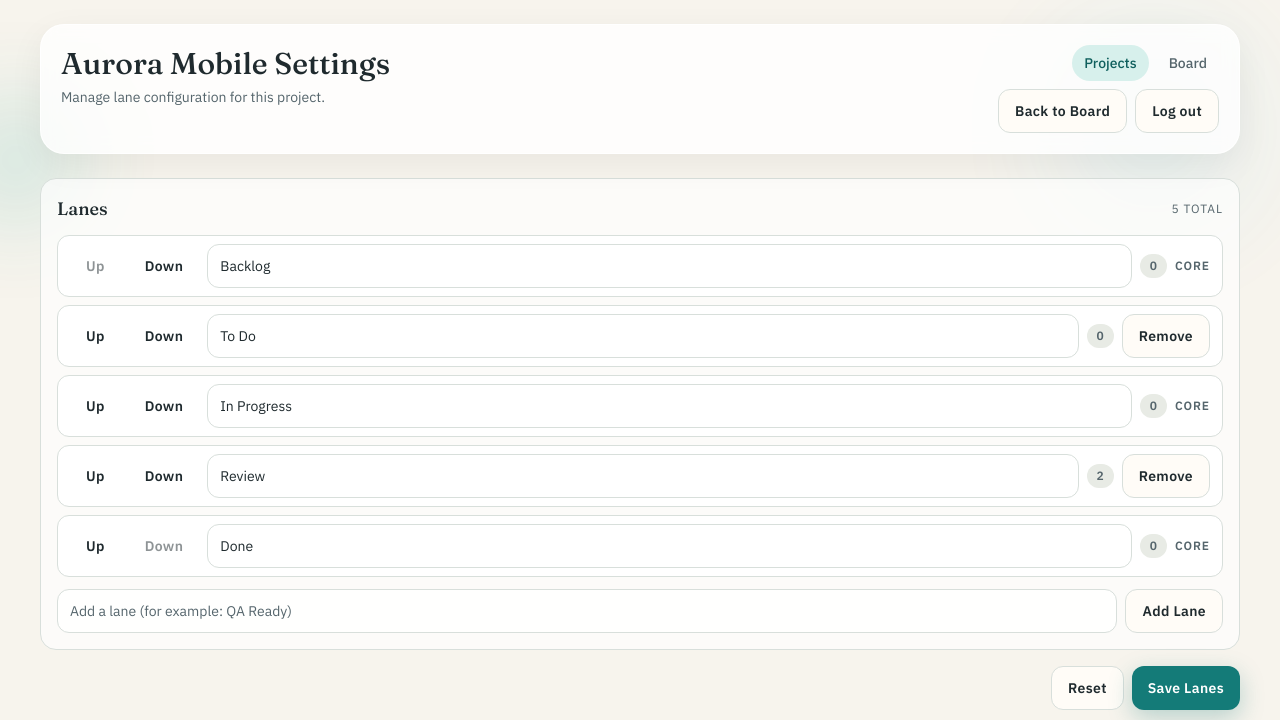
Test case: Kanban UI with Convex auth and data hooks › requires removed-lane mapping when saving lane settings
This screenshot has width=1280, height=720.
expect the field named "lane name review" is shown: met, box [207,454,1079,498]
What coordinates should you click on to do the following:
click the 2nd button "Remove"
I would click on:
 (1166, 476)
Its box is [1122,454,1210,498].
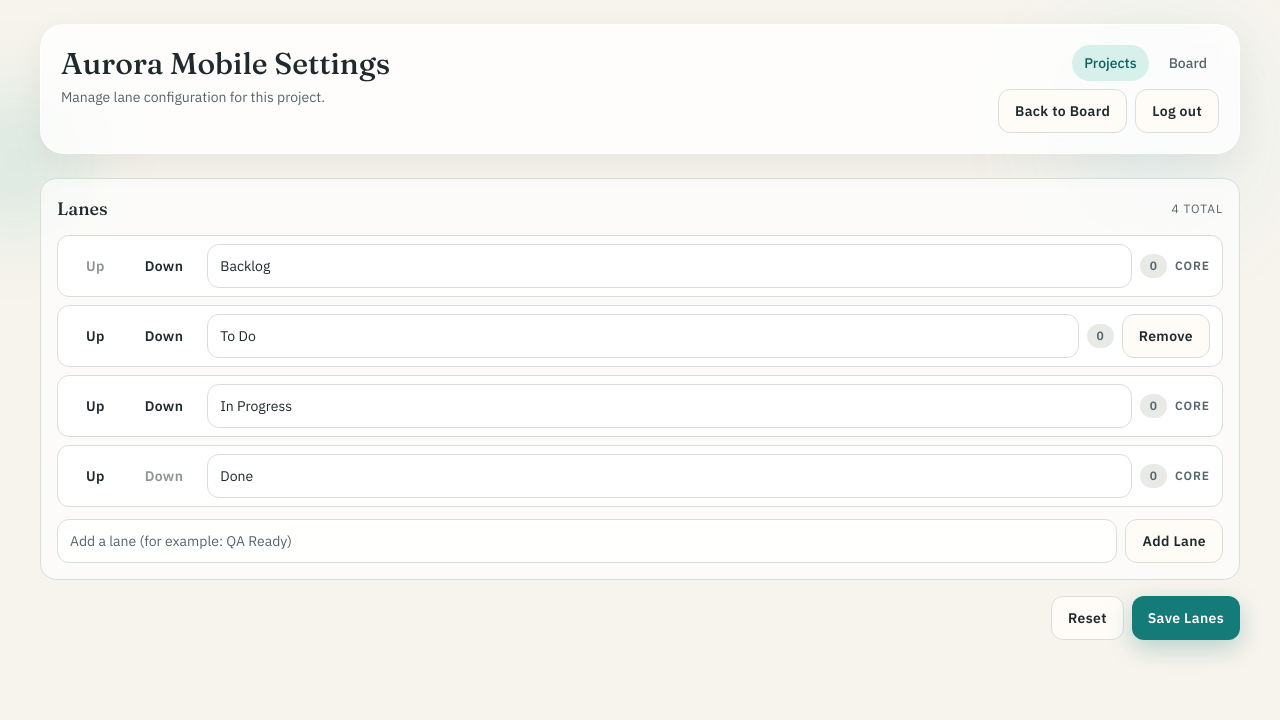
What coordinates should you click on to do the following:
click the button "Save Lanes"
I would click on:
 (1186, 618)
Its box is [1132,596,1240,640].
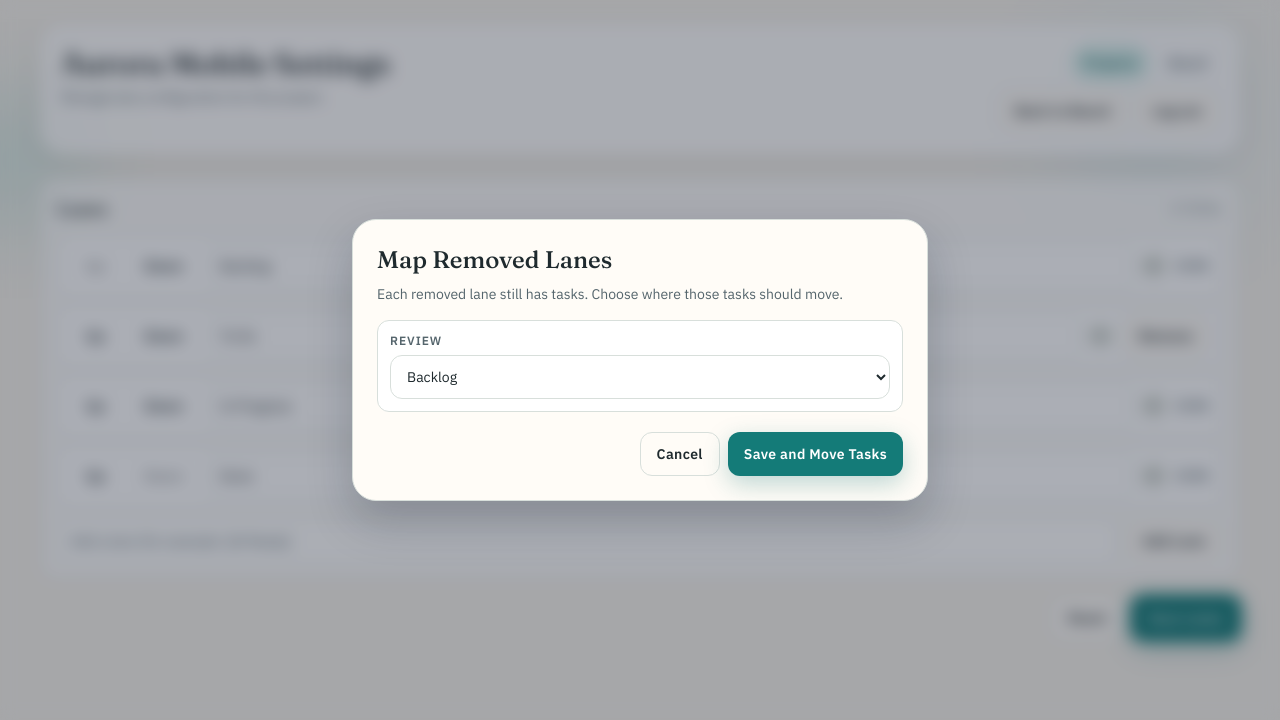
expect the heading "Map Removed Lanes" is shown: met, box [377,245,612,274]
